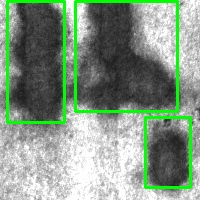patches: (75, 1, 177, 111), (8, 1, 64, 122), (145, 117, 190, 187)
